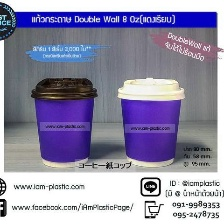paper_cup: (111, 72, 188, 169), (27, 74, 101, 170)
